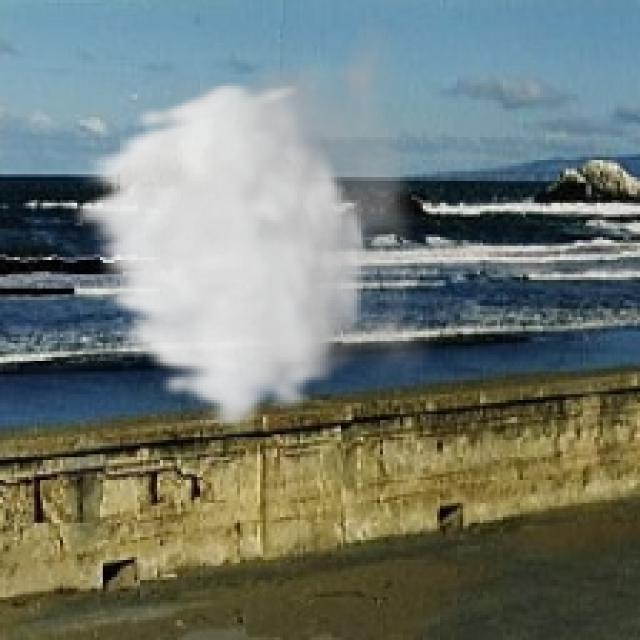smoke: (66, 6, 440, 431)
